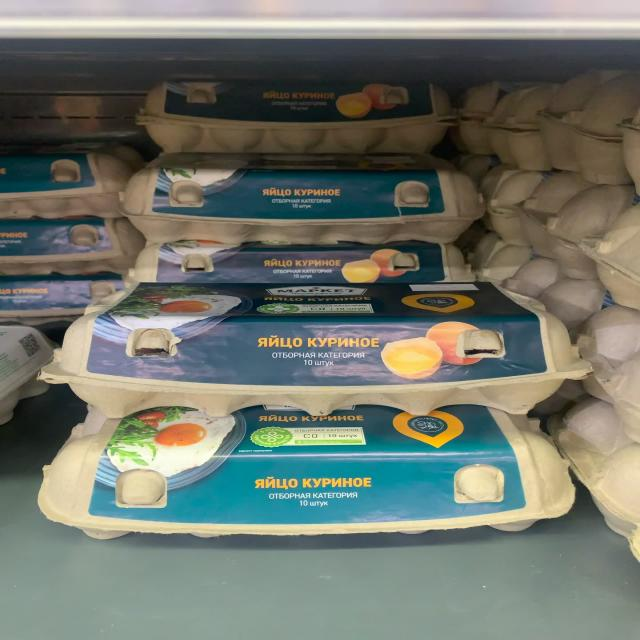egg box: (37, 402, 574, 536), (48, 281, 581, 412), (114, 160, 481, 243), (132, 78, 460, 154), (124, 242, 471, 279)
